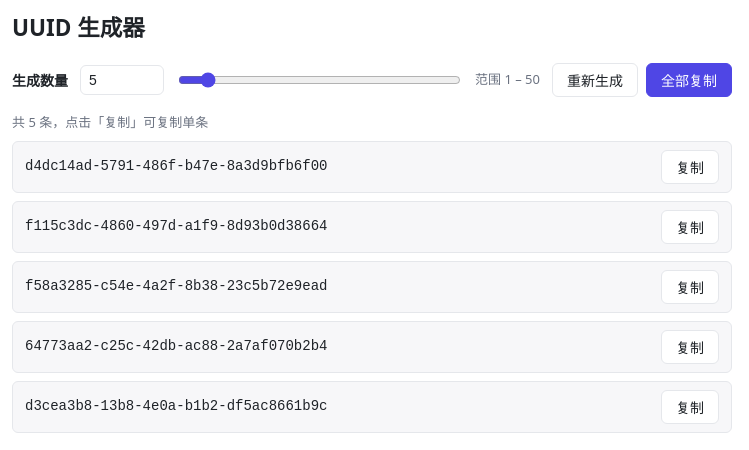
Scenario: BETE-7 功能：复制与重新生成 › 功能: 全部复制以换行分隔写入全部 UUID
Step 1. Click the button "全部复制" → (689, 80), box [646,63,732,97]
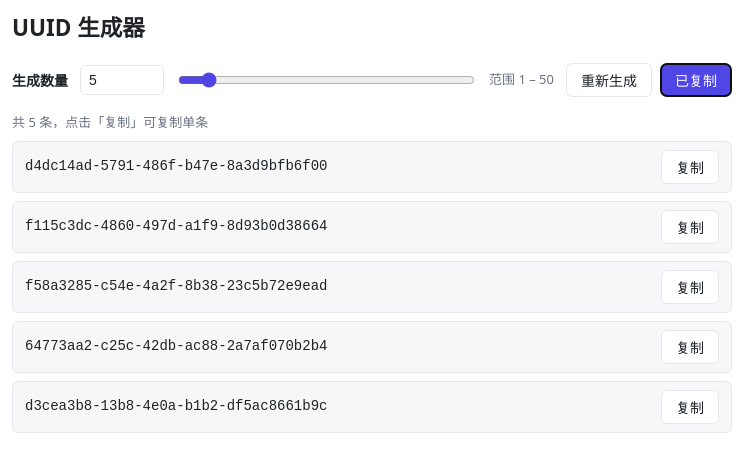
expect the button "已复制" is shown: met, box [660,63,732,97]
